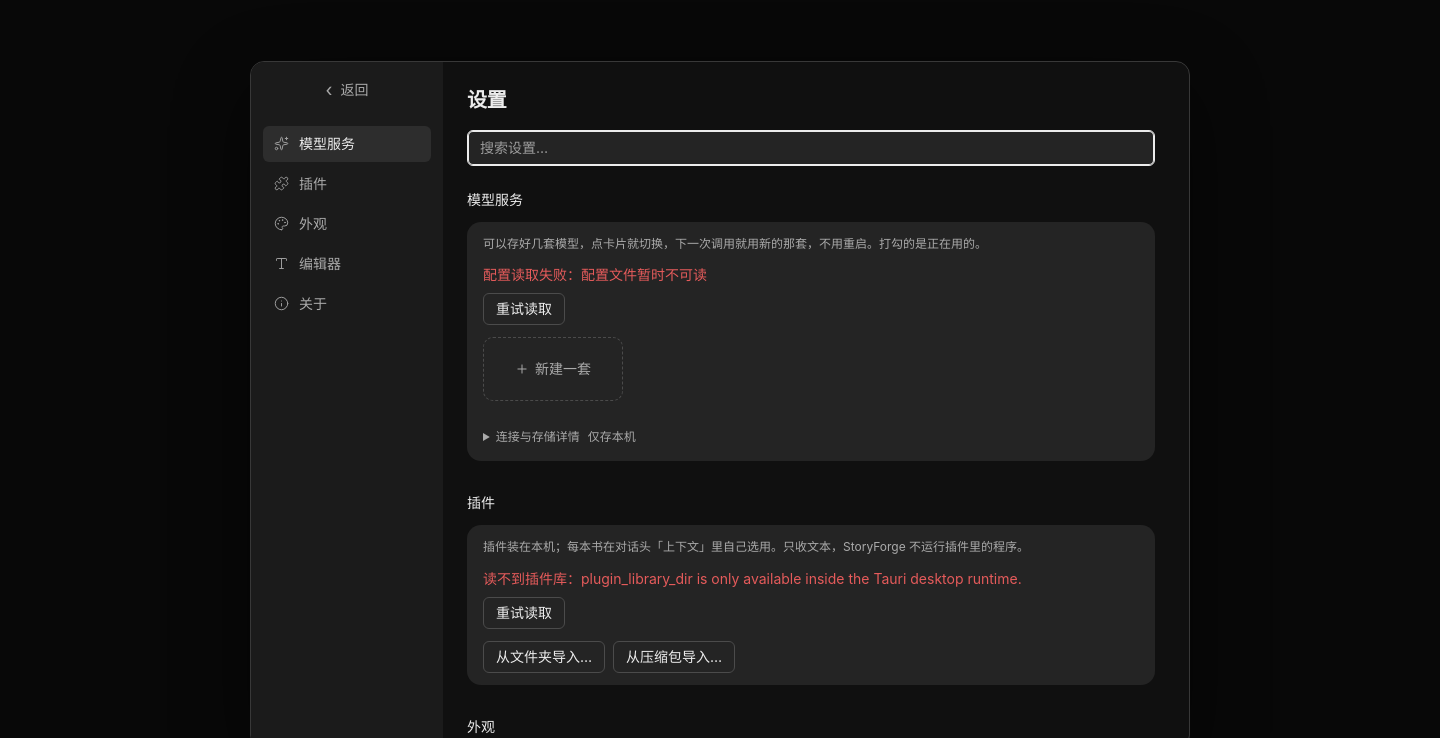
Scenario: 配置读取失败可见，可重试
Step 1. Click the button "重试读取" below "配置读取失败：" → (524, 309), box top-left (483, 293), bottom-right (565, 325)
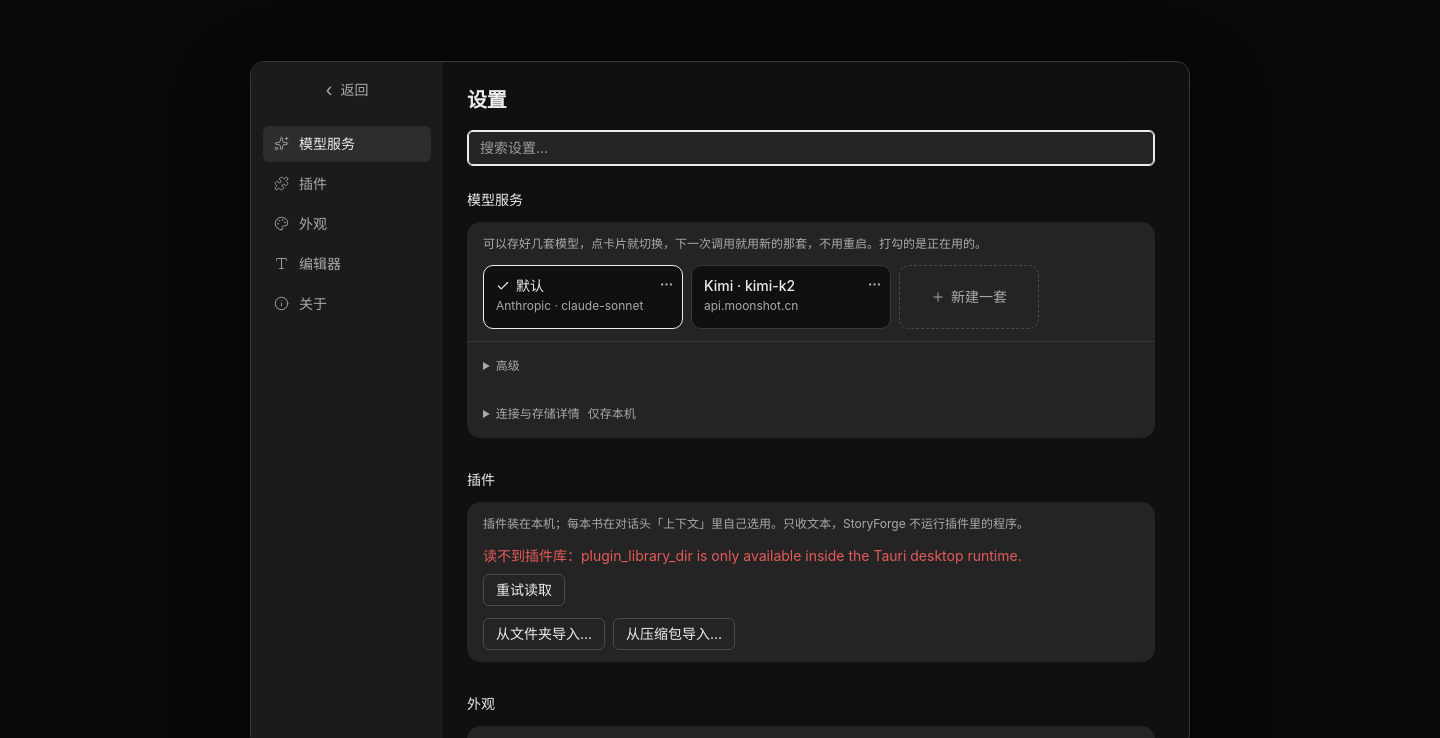
Expected: the message with test id "provider-config-error" is gone
Expected: the element with test id "model-profile-card" showing "Kimi · kimi-k2 api.moonshot.cn" is shown, top-left (691, 265), bottom-right (891, 329)
